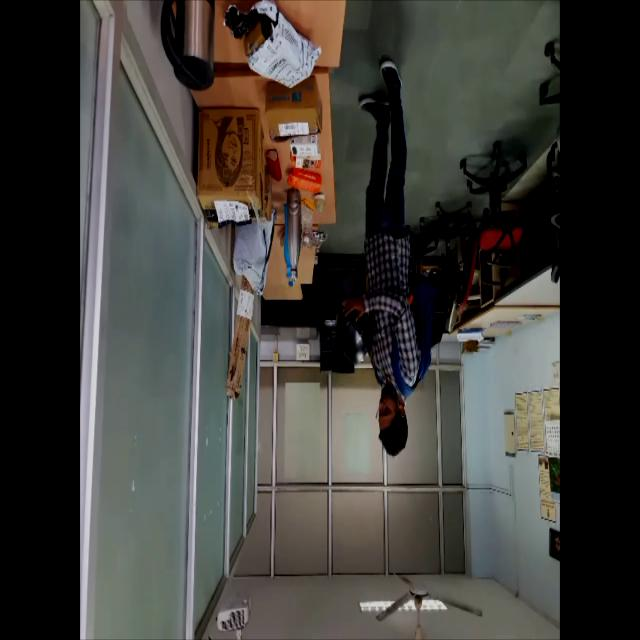normal: (334, 5, 440, 461)
